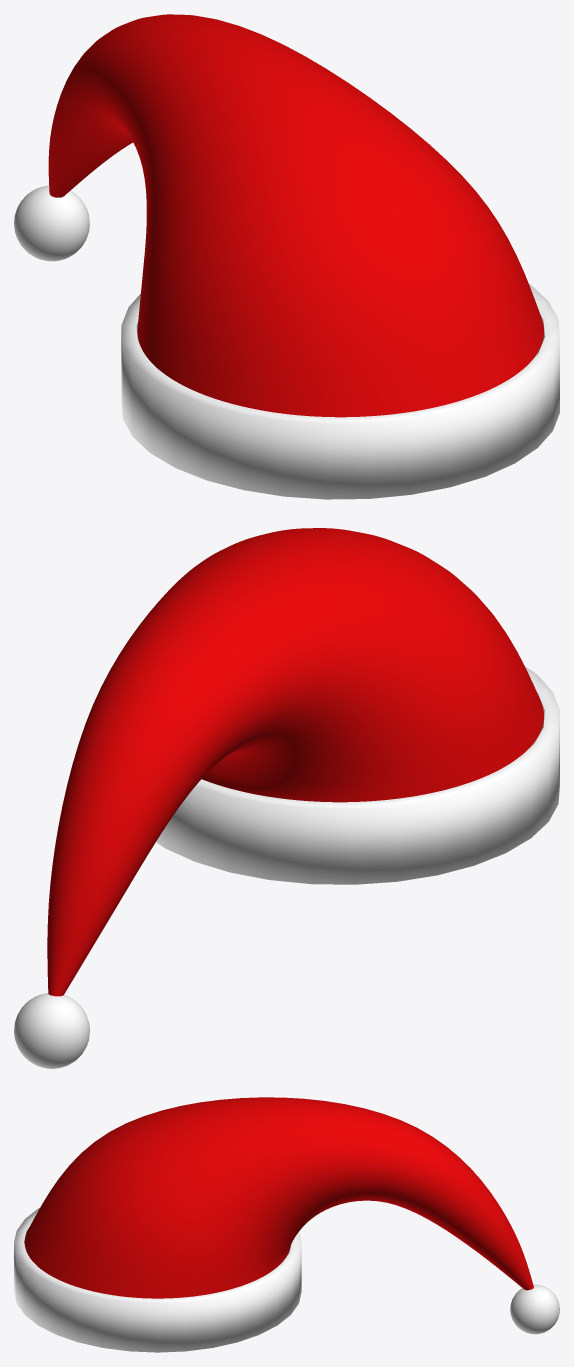
Rendered from santaHat.fbx.
The picture shows the model from 3 angles, top to bottom: view 1: azimuth 30°, elevation 25°; view 2: azimuth 150°, elevation 25°; view 3: azimuth 270°, elevation 25°; orthographic projection. The views are drawn at different scales.
Visible parts, largest first — view 1: SantaHat; view 2: SantaHat; view 3: SantaHat.
Boxes of the visible parts, bbox=[...] form: SantaHat: bbox=[14, 14, 559, 499]; SantaHat: bbox=[14, 528, 559, 1068]; SantaHat: bbox=[14, 1097, 559, 1352].
Bounding box in the file's own units: 218 × 189 × 413.
